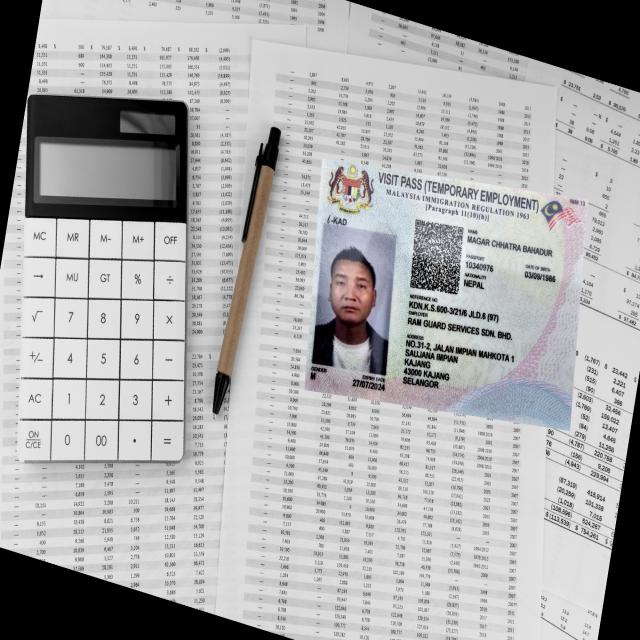ikad-temp: (300, 150, 590, 443)
